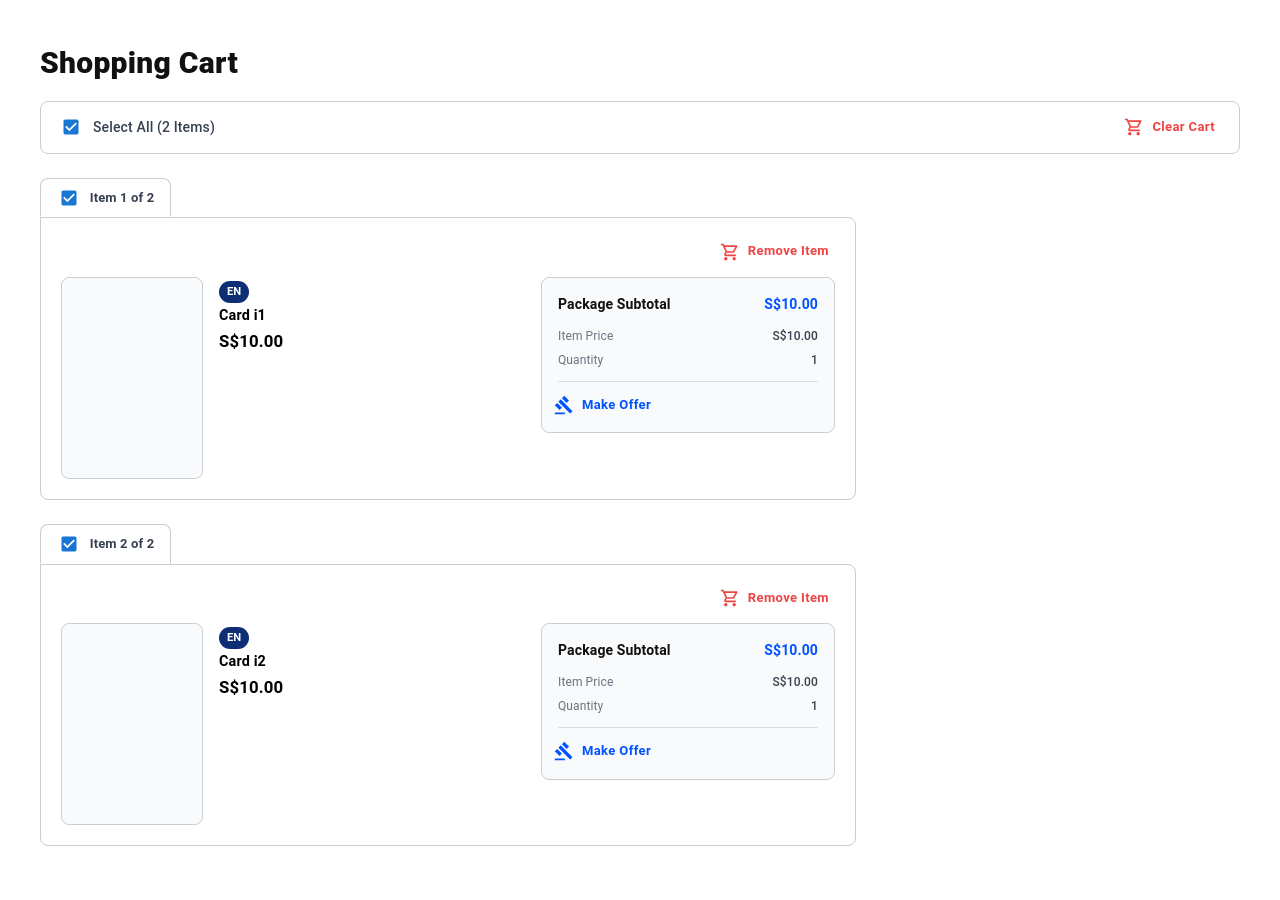
Test: CartPage › puts a removed item back and shows an error when DELETE /api/cart/:id fails
Expected: the heading "Shopping Cart" is shown, x1=40 y1=45 x2=238 y2=80
Click the 1st button "Remove Item".
click(776, 252)  # box x1=718 y1=238 x2=835 y2=265
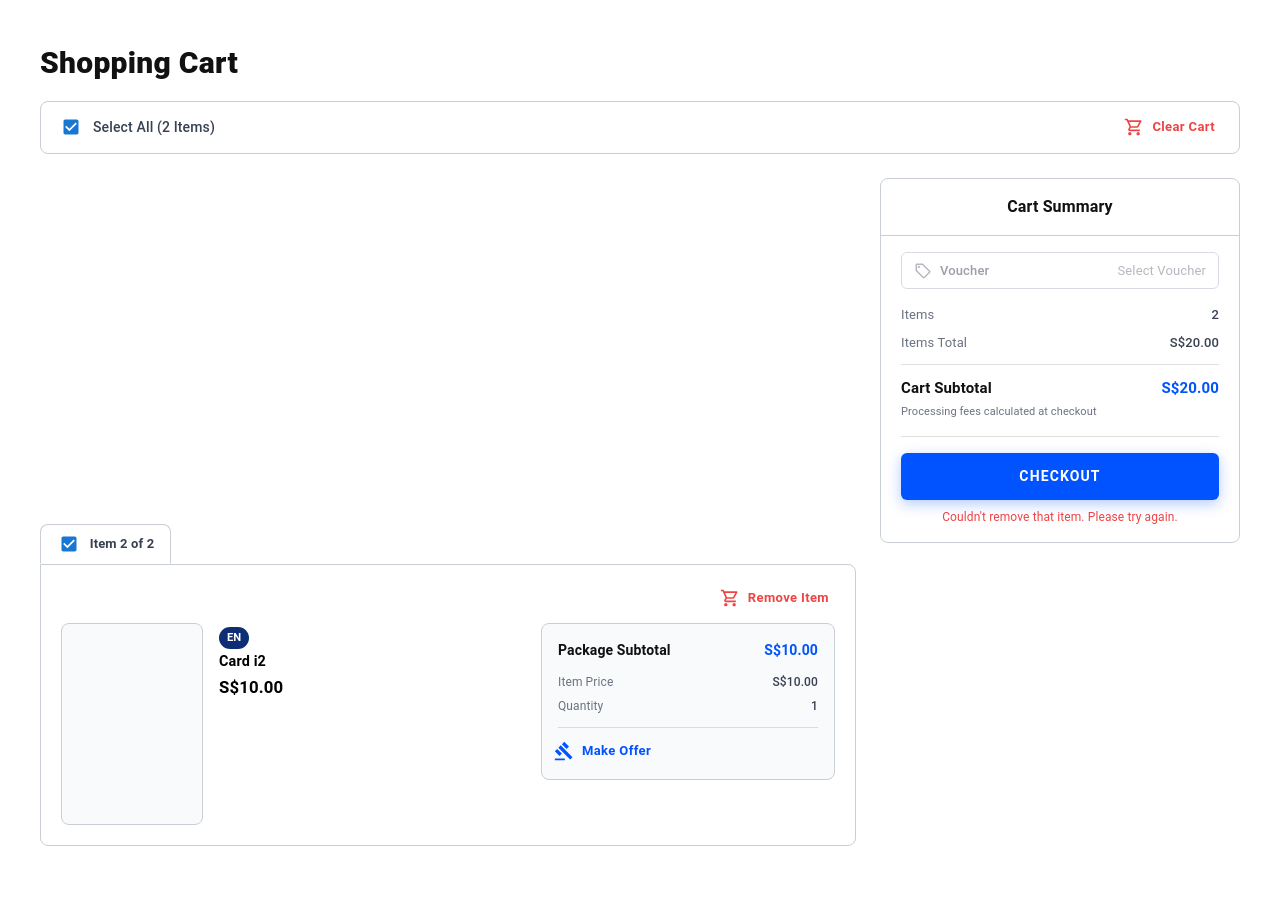
Expected: the text "Couldn't remove that item. Please try again." is shown, x1=942 y1=510 x2=1178 y2=524
